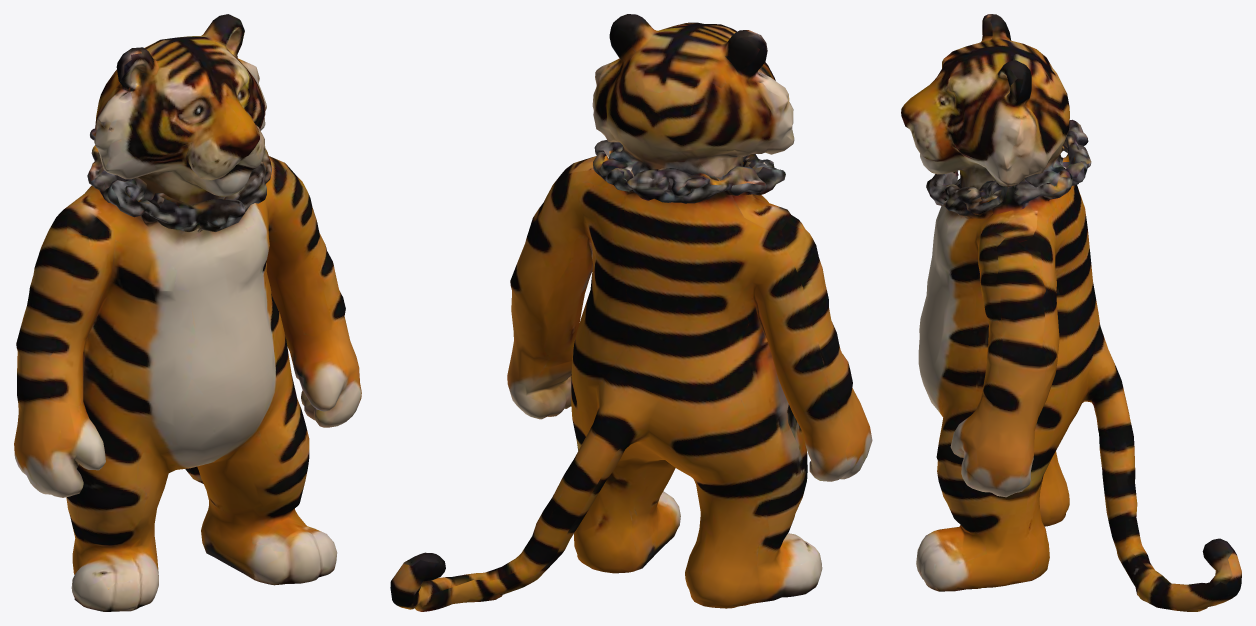
The model's file is mob_arena_tiger.glb.
3 renders of one model, left to right at view 1: azimuth 30°, elevation 25°; view 2: azimuth 150°, elevation 25°; view 3: azimuth 270°, elevation 25°, orthographic. The views are drawn at different scales.
Visible parts, largest first — view 1: geometry_0; view 2: geometry_0; view 3: geometry_0.
Part boxes in pixels (x1,y1,x2,y2): geometry_0: [14, 14, 361, 611]; geometry_0: [390, 14, 872, 611]; geometry_0: [901, 14, 1241, 611].
Size of the model in its own units: 1.3 by 1.97 by 1.21.
1 material, 1 textured.
